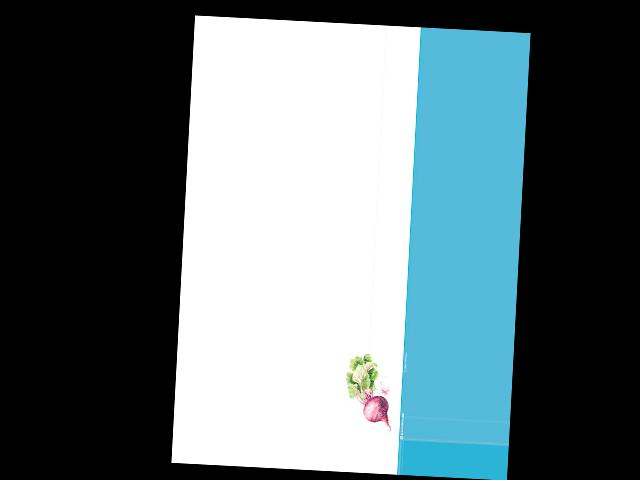beet: (343, 352, 395, 431)
